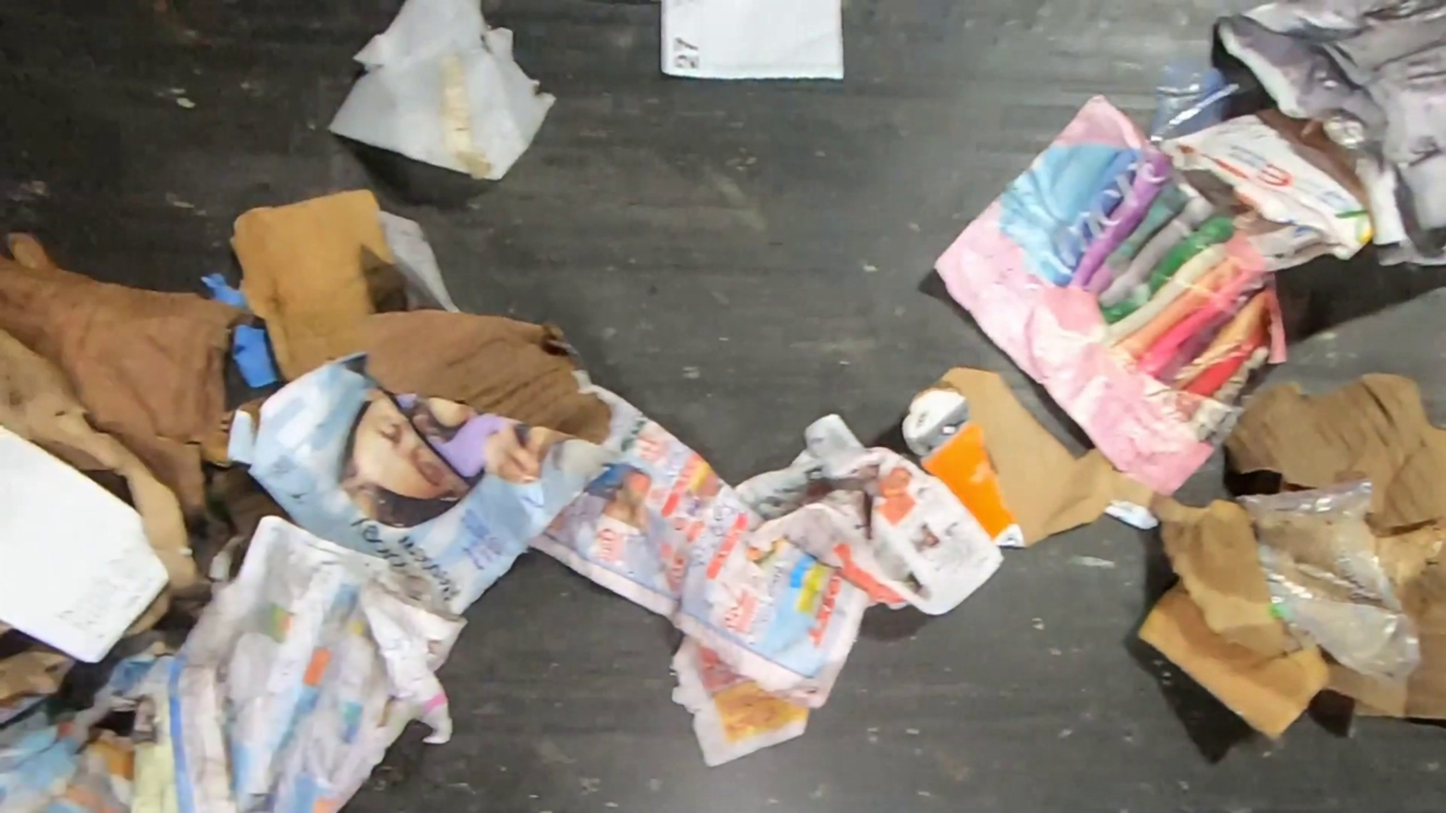cardboard: (1133, 372, 1446, 739), (0, 232, 263, 527), (0, 328, 211, 638), (899, 365, 1162, 550), (366, 309, 635, 452), (226, 185, 406, 383)
plastic: (1152, 63, 1238, 144)
